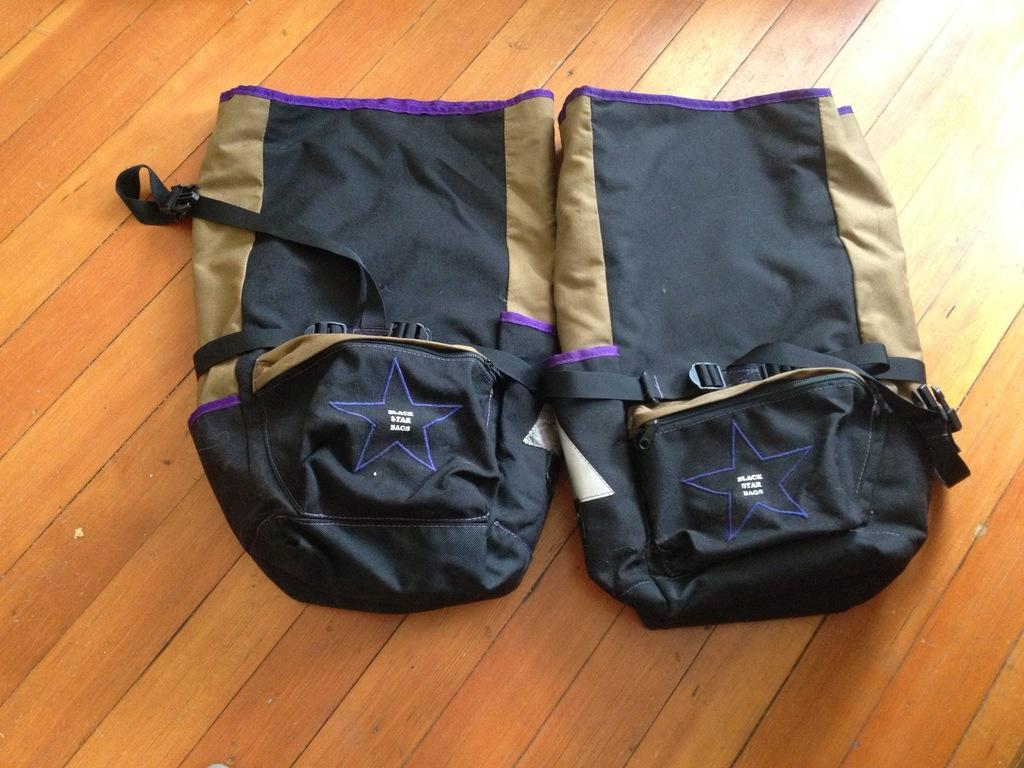Luggage-and-bags: (531, 78, 969, 636), (163, 92, 586, 615)
